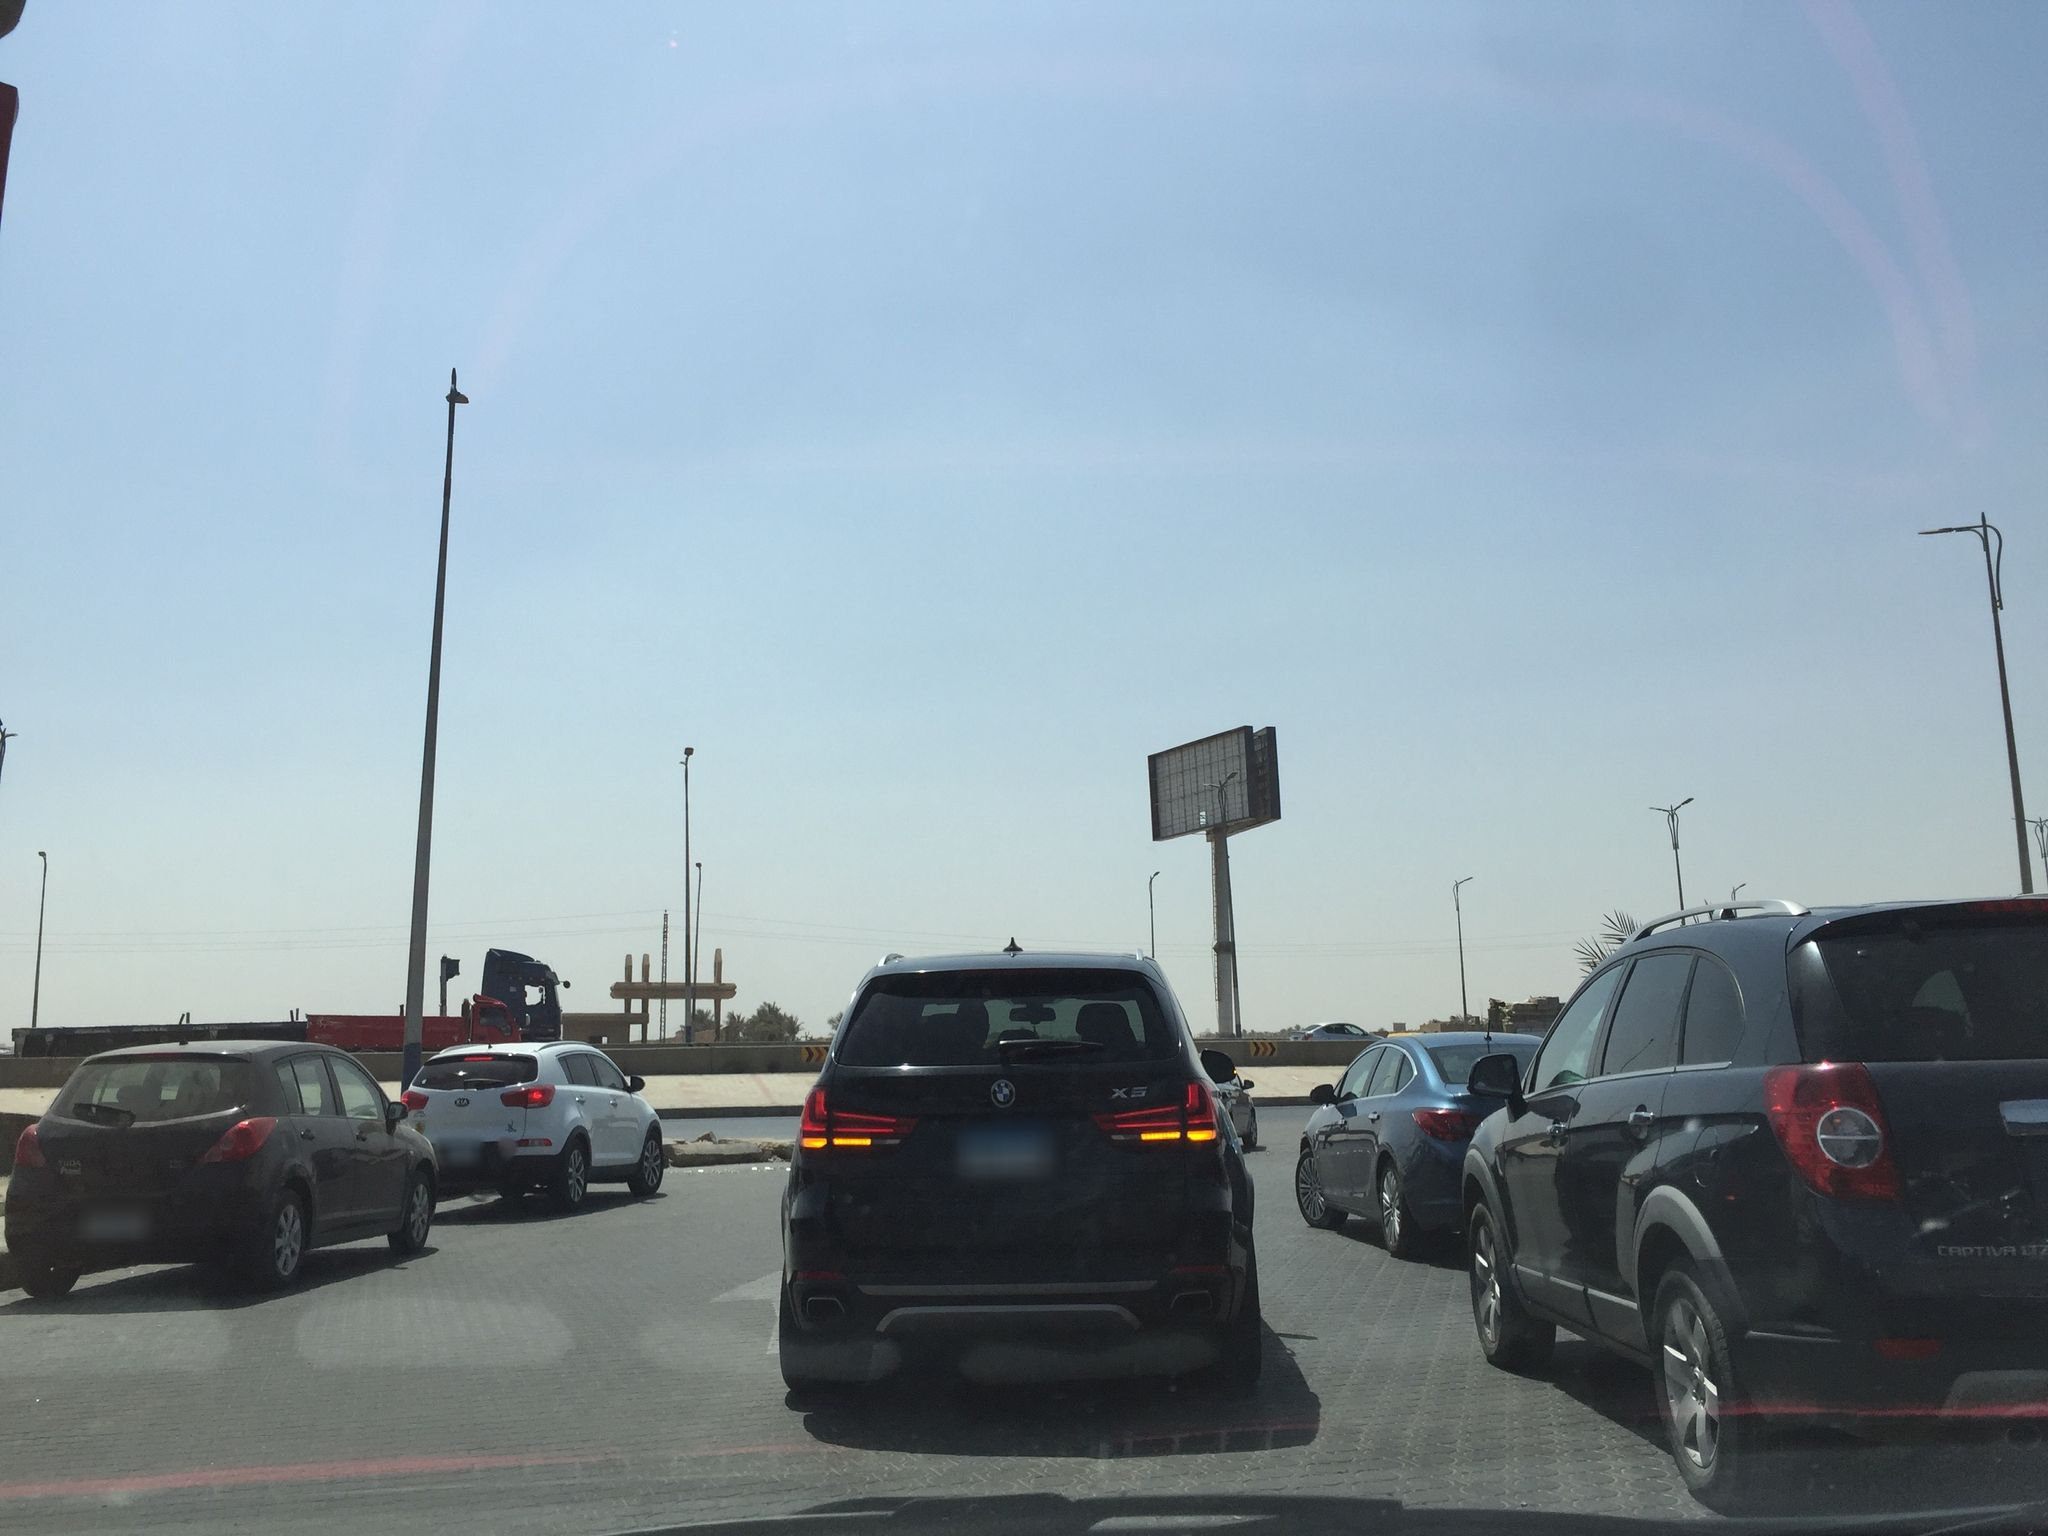car: (1458, 889, 2048, 1512), (766, 941, 1268, 1404), (2, 1025, 440, 1284), (1293, 1029, 1543, 1258), (400, 1041, 664, 1208), (1206, 1066, 1259, 1150), (1287, 1020, 1384, 1042)
truck: (6, 945, 572, 1052), (303, 992, 522, 1049)
